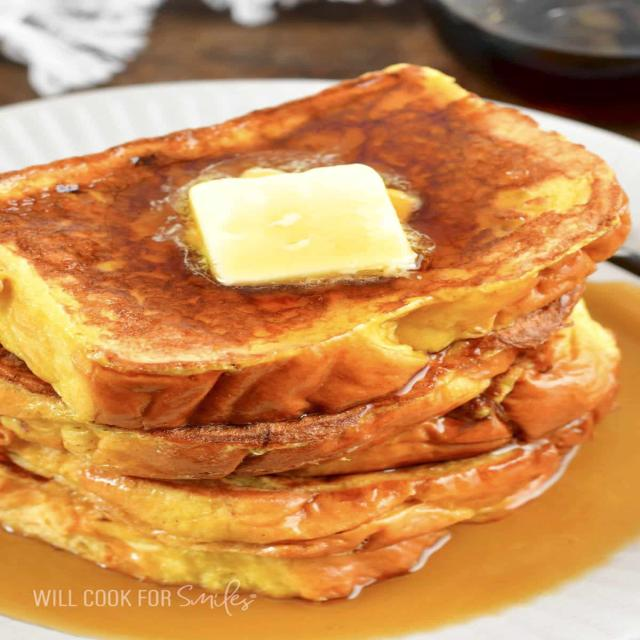Bread: (2, 65, 624, 428)
